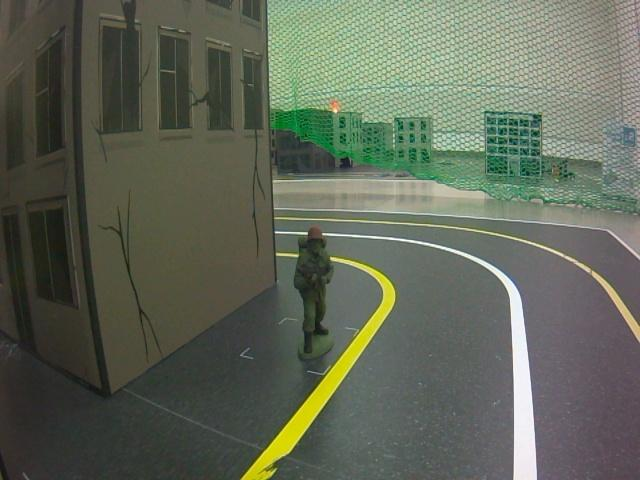Enemy: (291, 226, 335, 369)
